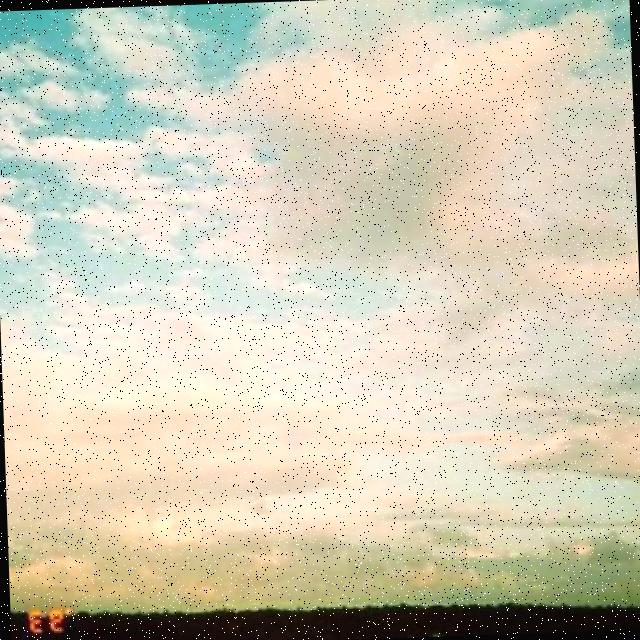Sc: (1, 19, 640, 559)
